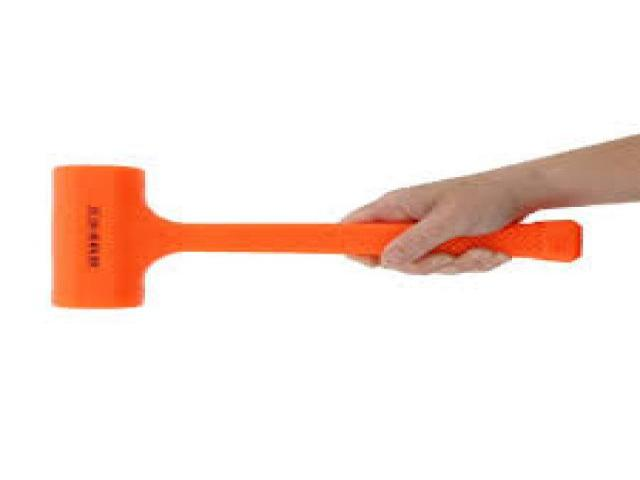hammer: (50, 163, 580, 309)
